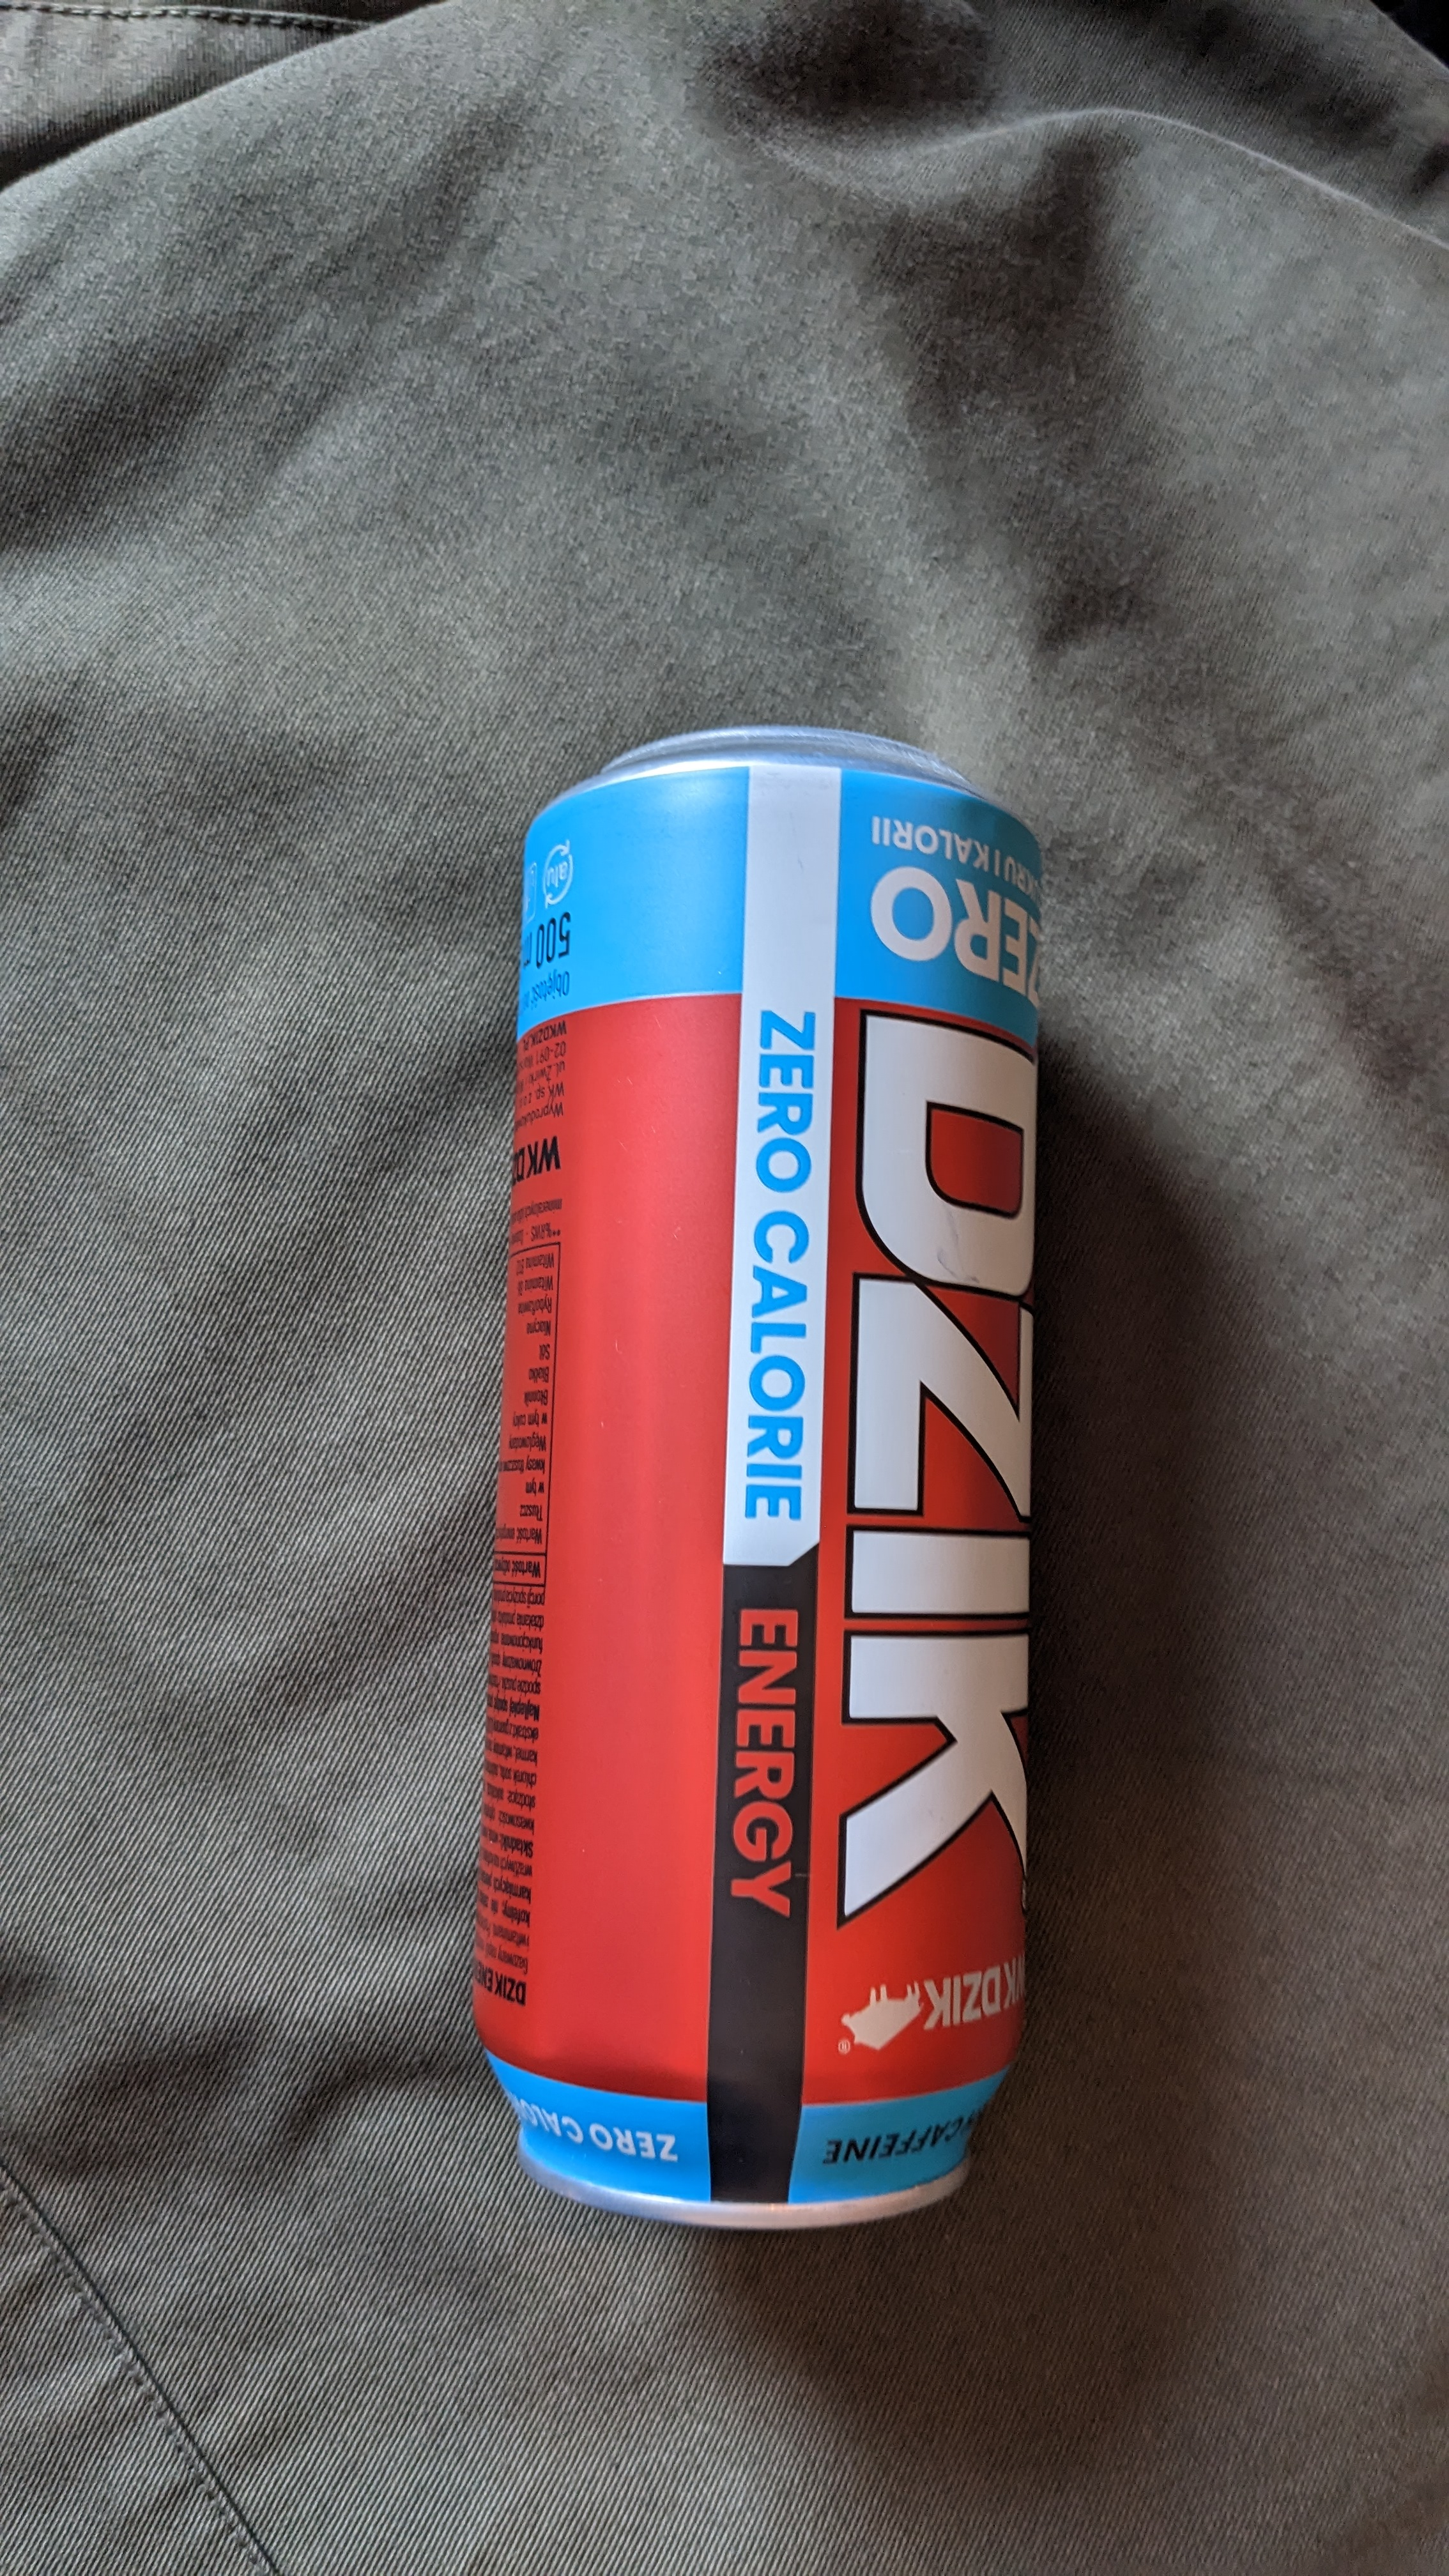dzik: (442, 718, 1083, 2249)
